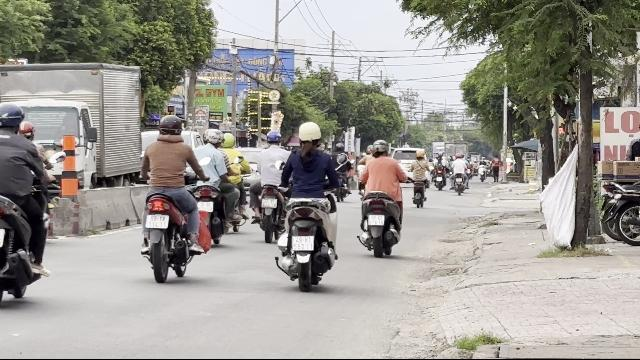helmet: (296, 121, 322, 151), (0, 102, 24, 134), (156, 114, 184, 138), (204, 128, 222, 146), (371, 139, 389, 157), (18, 121, 34, 139), (265, 129, 281, 145)
licenseplate: (292, 234, 314, 250), (146, 215, 168, 229), (197, 201, 213, 213), (368, 215, 384, 226), (262, 198, 276, 208)
motorcyclist: (136, 111, 208, 280), (273, 118, 343, 290), (1, 99, 57, 311), (192, 129, 248, 244), (354, 138, 406, 256), (251, 129, 291, 239)
